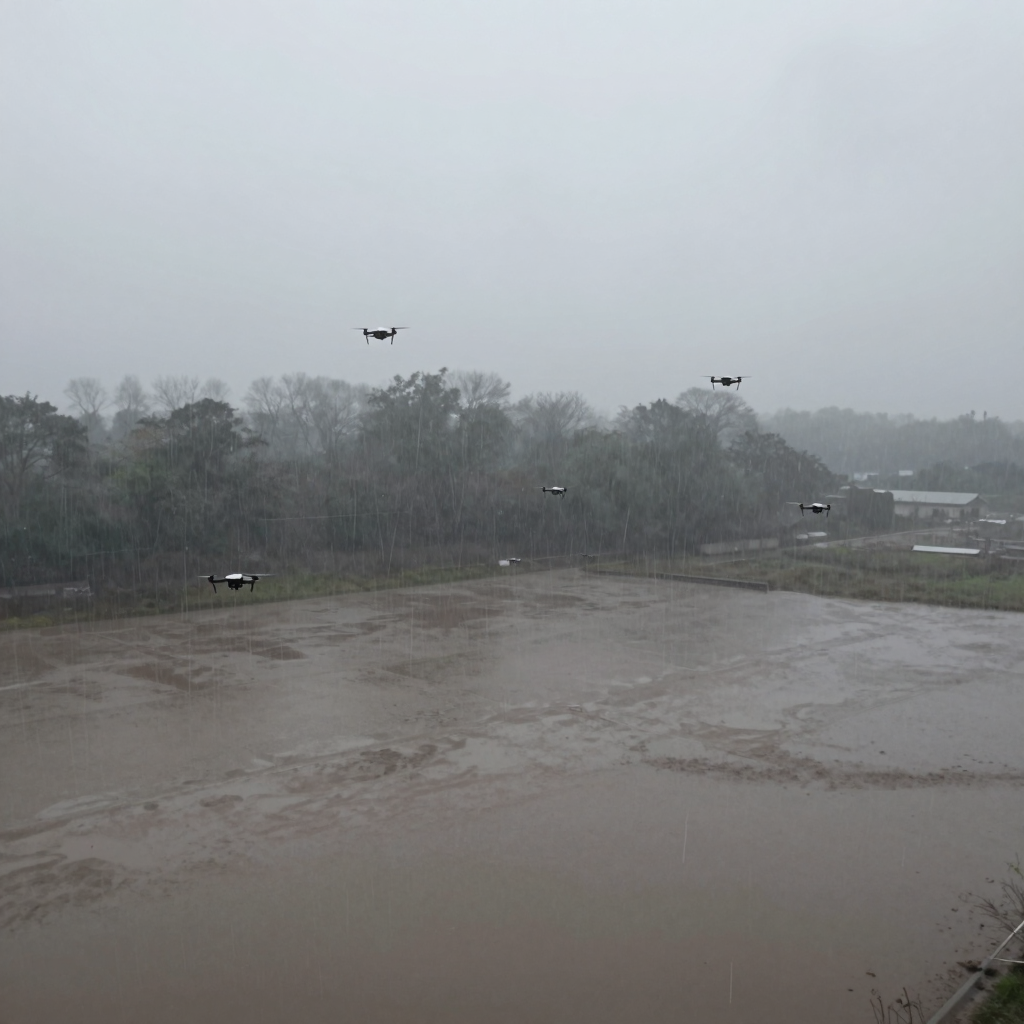drone: (197, 573, 276, 594), (351, 327, 410, 345), (700, 376, 752, 391), (785, 502, 831, 517), (535, 486, 568, 496)
